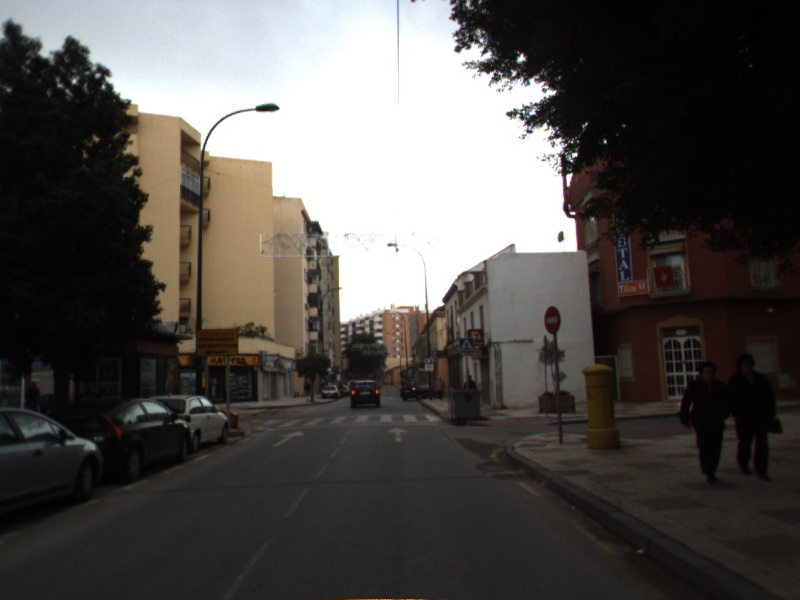STRAIGHT: (269, 428, 306, 449), (385, 425, 412, 444)
